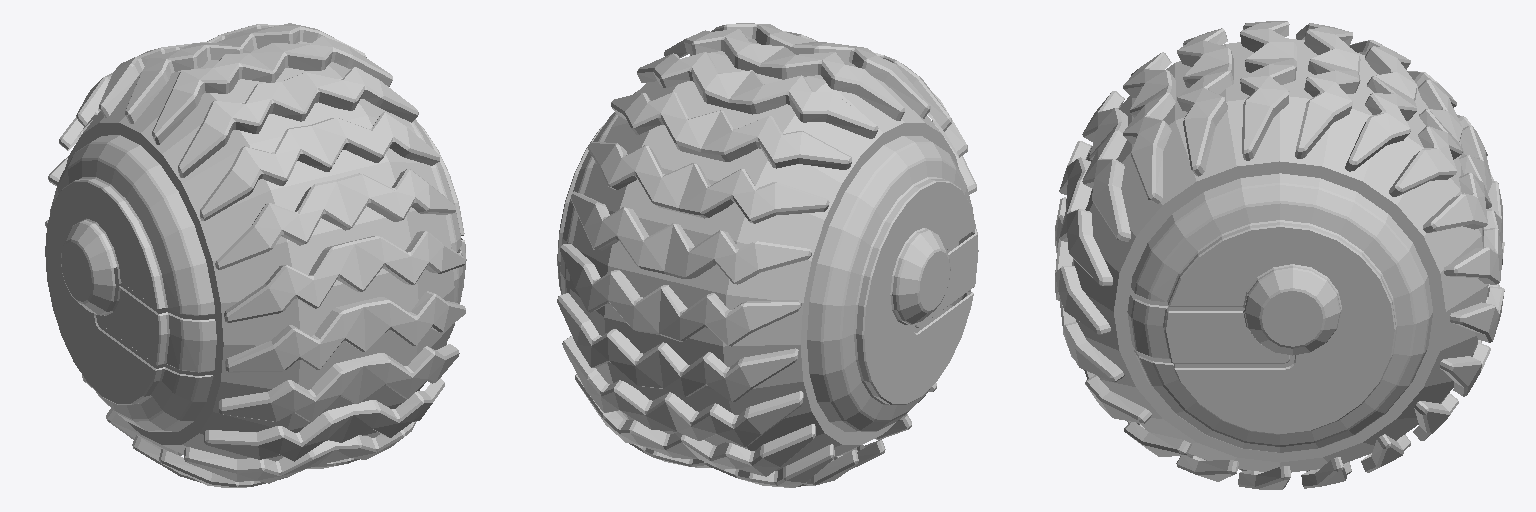
The model's file is VehicleWheel.obj.
3 renders of one model, left to right at view 1: azimuth 30°, elevation 25°; view 2: azimuth 150°, elevation 25°; view 3: azimuth 270°, elevation 25°, orthographic.
Parts seen in each view (by area): view 1: Cylinder; view 2: Cylinder; view 3: Cylinder.
Boxes of the visible parts, x1=… form: Cylinder: x1=45, y1=23, x2=466, y2=487; Cylinder: x1=557, y1=23, x2=978, y2=487; Cylinder: x1=1055, y1=21, x2=1504, y2=489.
Bounding box in the file's own units: 2.67 × 3 × 3.